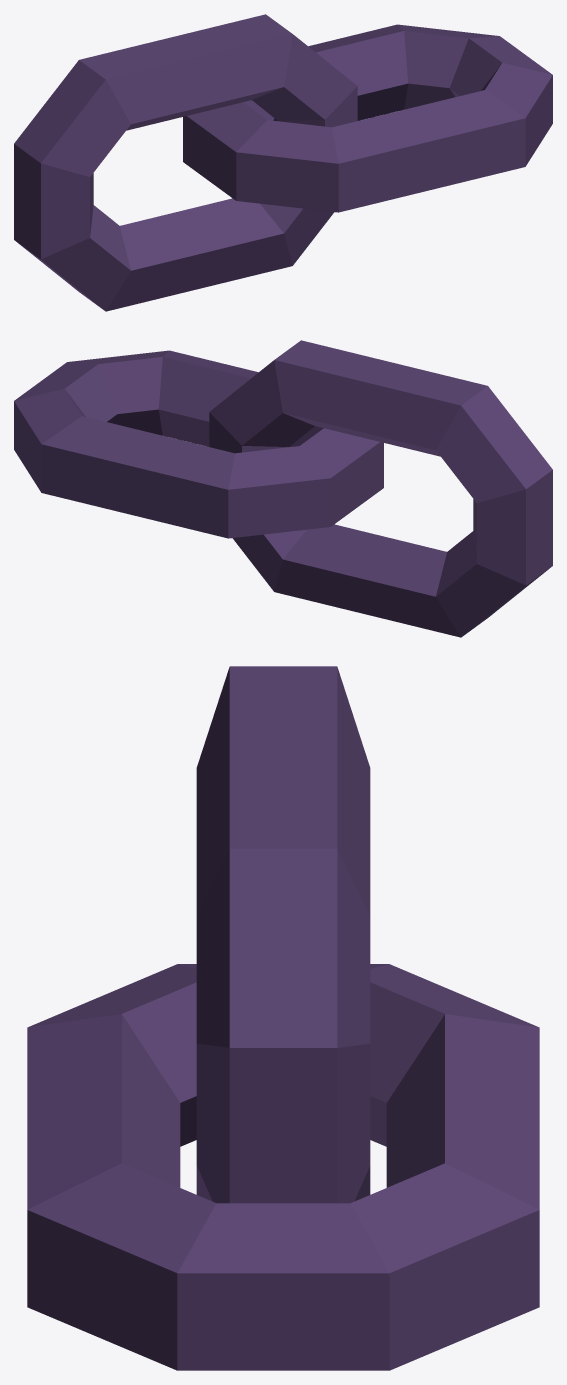
File: chainlink.fbx
3 renders of one model, top to bottom at view 1: azimuth 30°, elevation 25°; view 2: azimuth 150°, elevation 25°; view 3: azimuth 270°, elevation 25°, orthographic. The views are drawn at different scales.
Parts seen in each view (by area): view 1: pTorus3; view 2: pTorus3; view 3: pTorus3.
Part boxes in pixels (box(x1,y1,x2,y2)): pTorus3: box(14, 14, 552, 311); pTorus3: box(14, 340, 552, 637); pTorus3: box(27, 666, 539, 1370).
Size of the model in its own units: 5.67 by 2.52 by 2.52.
